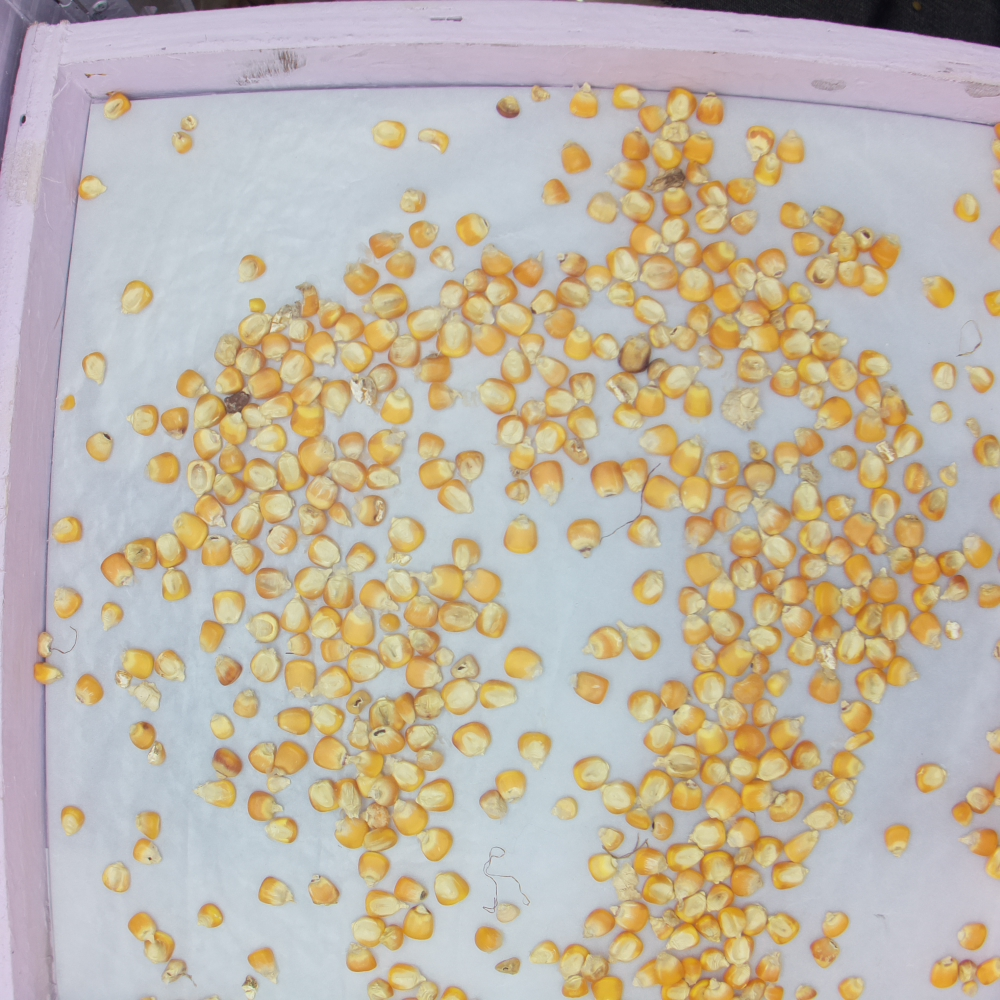corn: (723, 389, 762, 430), (620, 621, 660, 660), (420, 567, 466, 600), (716, 641, 757, 677), (530, 460, 565, 501), (341, 603, 374, 646), (437, 317, 473, 355), (753, 498, 792, 533), (312, 735, 349, 771), (370, 284, 408, 319), (298, 437, 336, 472), (813, 396, 853, 429), (173, 513, 209, 549), (316, 664, 353, 699), (441, 679, 478, 714), (479, 380, 517, 414), (453, 722, 492, 755), (439, 480, 475, 515), (706, 452, 741, 488), (390, 517, 425, 553), (567, 521, 601, 558), (406, 685, 443, 719), (660, 366, 698, 399), (639, 770, 672, 808), (740, 782, 780, 813), (587, 626, 622, 661), (629, 222, 665, 256), (682, 266, 716, 302), (761, 533, 797, 567), (642, 256, 679, 289), (711, 314, 744, 351), (464, 569, 501, 602), (329, 459, 367, 491), (641, 425, 680, 456), (276, 452, 306, 492), (359, 580, 399, 610), (921, 274, 955, 309), (670, 439, 703, 475), (645, 477, 681, 510), (404, 593, 437, 629), (363, 318, 400, 350), (909, 611, 941, 648), (757, 270, 788, 308), (279, 595, 310, 633), (480, 678, 518, 709), (368, 429, 402, 463), (706, 786, 740, 820), (729, 558, 765, 590), (519, 732, 551, 768), (608, 931, 644, 963), (410, 309, 451, 337), (505, 649, 542, 680), (682, 475, 712, 513), (440, 601, 478, 631), (682, 131, 715, 165), (917, 488, 951, 521), (665, 745, 699, 778), (575, 672, 609, 705), (194, 494, 227, 528), (274, 740, 308, 773), (243, 458, 278, 490), (620, 336, 652, 371), (856, 668, 888, 703), (694, 672, 726, 707), (601, 783, 636, 815), (196, 779, 236, 807), (370, 699, 405, 731), (418, 779, 453, 811), (696, 720, 727, 756), (389, 761, 425, 792), (609, 159, 646, 189), (482, 276, 519, 306), (419, 459, 456, 489), (870, 488, 900, 525), (605, 248, 638, 281), (305, 332, 338, 365), (785, 831, 818, 864), (456, 212, 488, 246), (382, 389, 414, 423), (291, 403, 325, 435), (568, 406, 600, 440), (633, 571, 665, 605), (575, 758, 609, 790), (295, 566, 329, 598), (420, 828, 454, 860), (435, 872, 469, 904), (799, 521, 830, 556), (810, 666, 841, 701), (504, 518, 535, 553), (121, 279, 152, 314), (232, 505, 263, 540), (230, 542, 265, 573), (347, 649, 382, 680), (260, 876, 295, 907), (162, 566, 192, 602), (360, 851, 389, 888), (495, 304, 533, 332), (288, 376, 326, 404), (622, 189, 654, 222), (340, 340, 373, 372), (281, 350, 313, 383), (743, 462, 775, 495), (757, 748, 790, 780), (627, 690, 660, 722), (249, 648, 281, 681), (393, 800, 426, 832), (607, 374, 641, 405), (309, 536, 343, 567), (248, 948, 279, 982), (959, 829, 998, 856), (793, 484, 823, 519), (196, 394, 226, 429), (570, 82, 599, 118), (702, 242, 738, 271), (644, 720, 673, 756), (259, 492, 295, 521), (188, 459, 214, 499), (275, 706, 312, 734), (389, 334, 421, 366), (828, 358, 860, 390), (810, 582, 842, 614), (841, 700, 873, 732), (125, 536, 157, 568), (345, 263, 378, 294), (249, 368, 282, 399), (770, 790, 803, 821), (591, 462, 622, 495), (325, 574, 356, 607), (213, 590, 244, 623), (419, 353, 453, 383), (746, 126, 776, 160), (216, 471, 246, 505), (713, 284, 748, 313), (461, 294, 496, 323), (836, 628, 865, 663), (706, 574, 735, 609), (219, 411, 248, 446), (251, 424, 288, 451), (406, 657, 443, 684), (667, 88, 698, 120), (846, 515, 878, 546), (387, 569, 418, 601), (102, 554, 133, 586), (309, 874, 341, 905), (537, 355, 570, 385), (127, 405, 160, 435), (339, 777, 361, 822), (860, 449, 886, 487), (737, 352, 771, 381), (709, 613, 743, 642), (726, 819, 760, 848), (245, 612, 279, 641), (286, 661, 315, 695), (405, 906, 434, 940), (871, 568, 899, 603), (748, 625, 783, 653), (963, 533, 991, 568), (158, 534, 186, 569), (666, 843, 705, 868), (616, 900, 647, 931), (310, 605, 341, 636), (502, 351, 532, 383), (497, 416, 529, 446), (546, 387, 578, 417), (858, 263, 888, 295), (752, 594, 782, 626), (787, 634, 817, 666), (789, 740, 821, 770), (703, 852, 735, 882), (176, 370, 208, 400), (148, 452, 180, 482), (129, 681, 161, 711), (335, 818, 367, 848), (381, 636, 413, 666), (544, 308, 577, 337), (857, 410, 886, 443), (767, 914, 800, 943), (264, 525, 297, 554), (582, 909, 615, 938), (370, 231, 404, 259), (772, 362, 800, 396), (202, 533, 230, 567), (256, 569, 290, 597), (880, 389, 907, 424), (915, 548, 941, 584), (479, 603, 505, 639), (651, 140, 682, 170), (888, 656, 919, 686), (733, 725, 764, 755), (661, 680, 691, 711), (297, 504, 327, 535), (308, 476, 337, 508), (871, 234, 900, 266), (671, 779, 700, 811), (673, 706, 705, 735), (54, 586, 83, 618), (733, 676, 766, 704), (249, 792, 282, 820), (364, 891, 404, 914), (296, 285, 323, 319), (881, 605, 908, 639), (561, 944, 588, 978), (730, 258, 756, 293), (367, 465, 402, 491), (558, 278, 588, 308), (865, 637, 895, 667), (686, 516, 716, 546), (155, 651, 185, 681), (271, 302, 302, 331), (320, 381, 349, 412), (359, 495, 388, 526), (813, 205, 844, 234), (896, 516, 925, 547), (856, 603, 885, 634), (678, 890, 707, 921), (495, 772, 526, 801), (145, 931, 174, 962), (374, 120, 406, 148), (777, 130, 805, 162), (755, 250, 787, 278), (807, 255, 835, 287), (774, 442, 802, 474), (536, 421, 564, 453), (240, 314, 268, 346), (313, 705, 345, 733), (353, 917, 385, 945), (453, 537, 480, 570), (369, 728, 406, 752), (698, 90, 724, 124), (846, 554, 872, 588), (804, 804, 838, 830), (612, 83, 647, 108), (857, 376, 882, 411), (623, 458, 648, 493), (562, 143, 591, 173), (587, 192, 616, 222), (727, 176, 756, 206), (482, 245, 512, 274), (513, 258, 543, 287), (456, 451, 485, 481), (630, 516, 659, 546), (697, 205, 728, 233), (474, 325, 505, 353), (336, 313, 364, 344), (261, 391, 292, 419), (780, 331, 811, 359), (732, 528, 763, 556), (719, 698, 747, 729), (311, 780, 339, 811), (635, 296, 667, 323), (565, 327, 592, 359), (617, 865, 641, 901), (685, 303, 711, 336), (774, 863, 807, 889), (932, 956, 958, 989), (163, 407, 189, 440), (395, 877, 428, 903), (782, 606, 811, 635), (700, 756, 729, 785), (916, 764, 945, 793), (236, 346, 265, 375), (74, 675, 103, 704), (698, 180, 728, 208), (429, 382, 457, 412), (733, 866, 761, 896), (347, 543, 375, 573), (194, 429, 222, 459), (390, 963, 425, 987), (685, 385, 712, 416), (85, 434, 116, 461), (743, 904, 769, 936), (122, 651, 154, 677), (738, 301, 771, 326), (773, 577, 806, 602), (623, 131, 651, 160), (674, 237, 702, 266), (370, 363, 399, 391), (800, 355, 829, 383), (895, 427, 923, 456), (905, 463, 933, 492), (813, 615, 841, 644), (811, 938, 839, 967), (730, 209, 760, 236), (558, 251, 588, 278), (635, 387, 665, 414), (824, 538, 854, 565), (644, 876, 674, 903), (103, 861, 130, 891), (130, 913, 157, 943), (407, 724, 437, 751), (657, 953, 684, 983), (720, 907, 746, 938), (249, 743, 275, 774), (267, 817, 298, 843), (668, 923, 700, 948), (700, 948, 732, 973), (215, 334, 239, 367), (758, 950, 782, 983), (661, 217, 689, 245), (609, 281, 638, 308), (351, 375, 378, 404), (787, 303, 814, 332), (676, 869, 703, 898), (694, 913, 721, 942), (973, 436, 1000, 465), (726, 935, 755, 962), (386, 251, 416, 277), (570, 373, 596, 403), (756, 156, 782, 186), (830, 231, 856, 261), (794, 429, 824, 455), (705, 885, 735, 911), (350, 715, 371, 752), (772, 717, 797, 748), (82, 353, 106, 385), (859, 351, 892, 374), (664, 188, 691, 216), (318, 302, 346, 329), (781, 202, 809, 229), (837, 258, 864, 286), (725, 483, 752, 511), (840, 588, 868, 615), (754, 837, 782, 864), (968, 786, 995, 814), (134, 812, 162, 839), (451, 652, 479, 679), (481, 791, 508, 819), (410, 220, 439, 246), (834, 751, 863, 777), (696, 822, 725, 848), (212, 749, 241, 775), (419, 431, 444, 461), (954, 192, 979, 222), (799, 553, 829, 578), (408, 629, 438, 654), (475, 927, 506, 951), (53, 518, 84, 542), (701, 976, 732, 1000), (418, 130, 450, 153), (746, 327, 778, 350), (791, 232, 823, 255), (441, 280, 468, 307), (163, 960, 190, 987), (589, 855, 616, 882), (724, 962, 751, 989), (104, 94, 132, 120), (670, 324, 698, 350), (729, 756, 757, 782), (826, 495, 855, 520), (712, 505, 741, 530), (680, 587, 705, 616), (684, 615, 709, 644), (958, 924, 987, 949), (215, 367, 244, 392), (216, 656, 241, 685), (345, 688, 374, 713), (133, 839, 162, 864), (531, 941, 560, 966), (564, 974, 593, 999), (361, 803, 391, 827), (347, 947, 377, 971), (99, 601, 123, 631), (512, 441, 534, 473), (542, 179, 569, 205), (263, 332, 289, 359), (593, 333, 620, 359), (890, 547, 917, 573), (823, 911, 849, 938), (322, 636, 349, 662), (650, 171, 685, 191), (691, 645, 716, 673), (234, 689, 259, 717), (753, 699, 777, 728), (634, 962, 663, 986), (592, 976, 625, 997), (886, 826, 909, 856), (32, 662, 62, 685), (841, 974, 867, 1000), (640, 105, 667, 130), (430, 245, 455, 272), (968, 365, 993, 392), (942, 576, 969, 601), (913, 585, 940, 610), (829, 778, 854, 805), (240, 255, 265, 282), (79, 175, 107, 199), (813, 334, 841, 358), (614, 404, 642, 428), (696, 347, 725, 370), (635, 851, 664, 874), (356, 773, 385, 796), (202, 620, 223, 651), (353, 753, 384, 774), (586, 265, 612, 290), (289, 318, 315, 343), (582, 955, 608, 980), (61, 807, 85, 834), (520, 333, 543, 361), (395, 693, 416, 723), (327, 503, 352, 528), (198, 903, 223, 928), (129, 723, 155, 747), (242, 402, 264, 430), (663, 121, 692, 142), (339, 434, 364, 458), (832, 446, 858, 469), (938, 551, 964, 574), (767, 669, 790, 695), (932, 362, 954, 389), (380, 925, 404, 949), (852, 226, 875, 251), (650, 916, 673, 941), (600, 828, 625, 851), (565, 439, 588, 464), (532, 291, 558, 313), (815, 644, 837, 670), (221, 391, 251, 410), (979, 959, 1000, 986), (402, 189, 426, 212), (464, 270, 487, 294), (799, 463, 822, 487), (978, 583, 1000, 608), (212, 714, 234, 739), (798, 387, 825, 407), (417, 751, 444, 771), (367, 979, 394, 999), (662, 982, 692, 1000), (681, 956, 700, 984), (288, 633, 311, 656), (497, 95, 519, 119), (688, 160, 709, 185), (653, 814, 673, 840), (761, 569, 784, 591), (506, 479, 529, 501), (952, 802, 974, 825), (649, 323, 670, 347), (522, 402, 547, 422), (624, 810, 650, 829), (434, 645, 455, 668), (845, 733, 873, 750), (262, 775, 291, 791), (790, 280, 811, 302), (556, 798, 578, 819), (497, 904, 521, 923), (741, 979, 765, 998), (645, 360, 670, 378), (38, 630, 54, 658), (173, 131, 193, 153), (867, 534, 889, 554), (958, 960, 977, 983), (749, 437, 767, 461), (931, 402, 952, 422), (749, 653, 769, 673), (733, 845, 753, 865), (770, 309, 788, 331), (940, 463, 958, 485), (813, 771, 833, 790), (877, 441, 895, 462), (984, 291, 1000, 314), (386, 551, 414, 564), (440, 987, 468, 1000), (113, 670, 132, 689), (149, 743, 165, 765), (379, 615, 401, 631), (986, 729, 1000, 753), (496, 959, 520, 973), (419, 982, 437, 1000), (793, 984, 816, 998), (946, 620, 962, 640), (990, 846, 1000, 877), (664, 909, 681, 927), (764, 985, 783, 1000), (530, 87, 550, 101), (836, 807, 853, 823), (181, 115, 198, 130), (62, 393, 75, 412), (248, 299, 265, 313), (990, 225, 1000, 248), (968, 418, 980, 436), (991, 494, 1000, 518), (963, 982, 979, 995), (995, 775, 1000, 807), (992, 169, 1000, 188), (815, 322, 830, 332), (993, 141, 1000, 161), (993, 123, 1000, 138)
